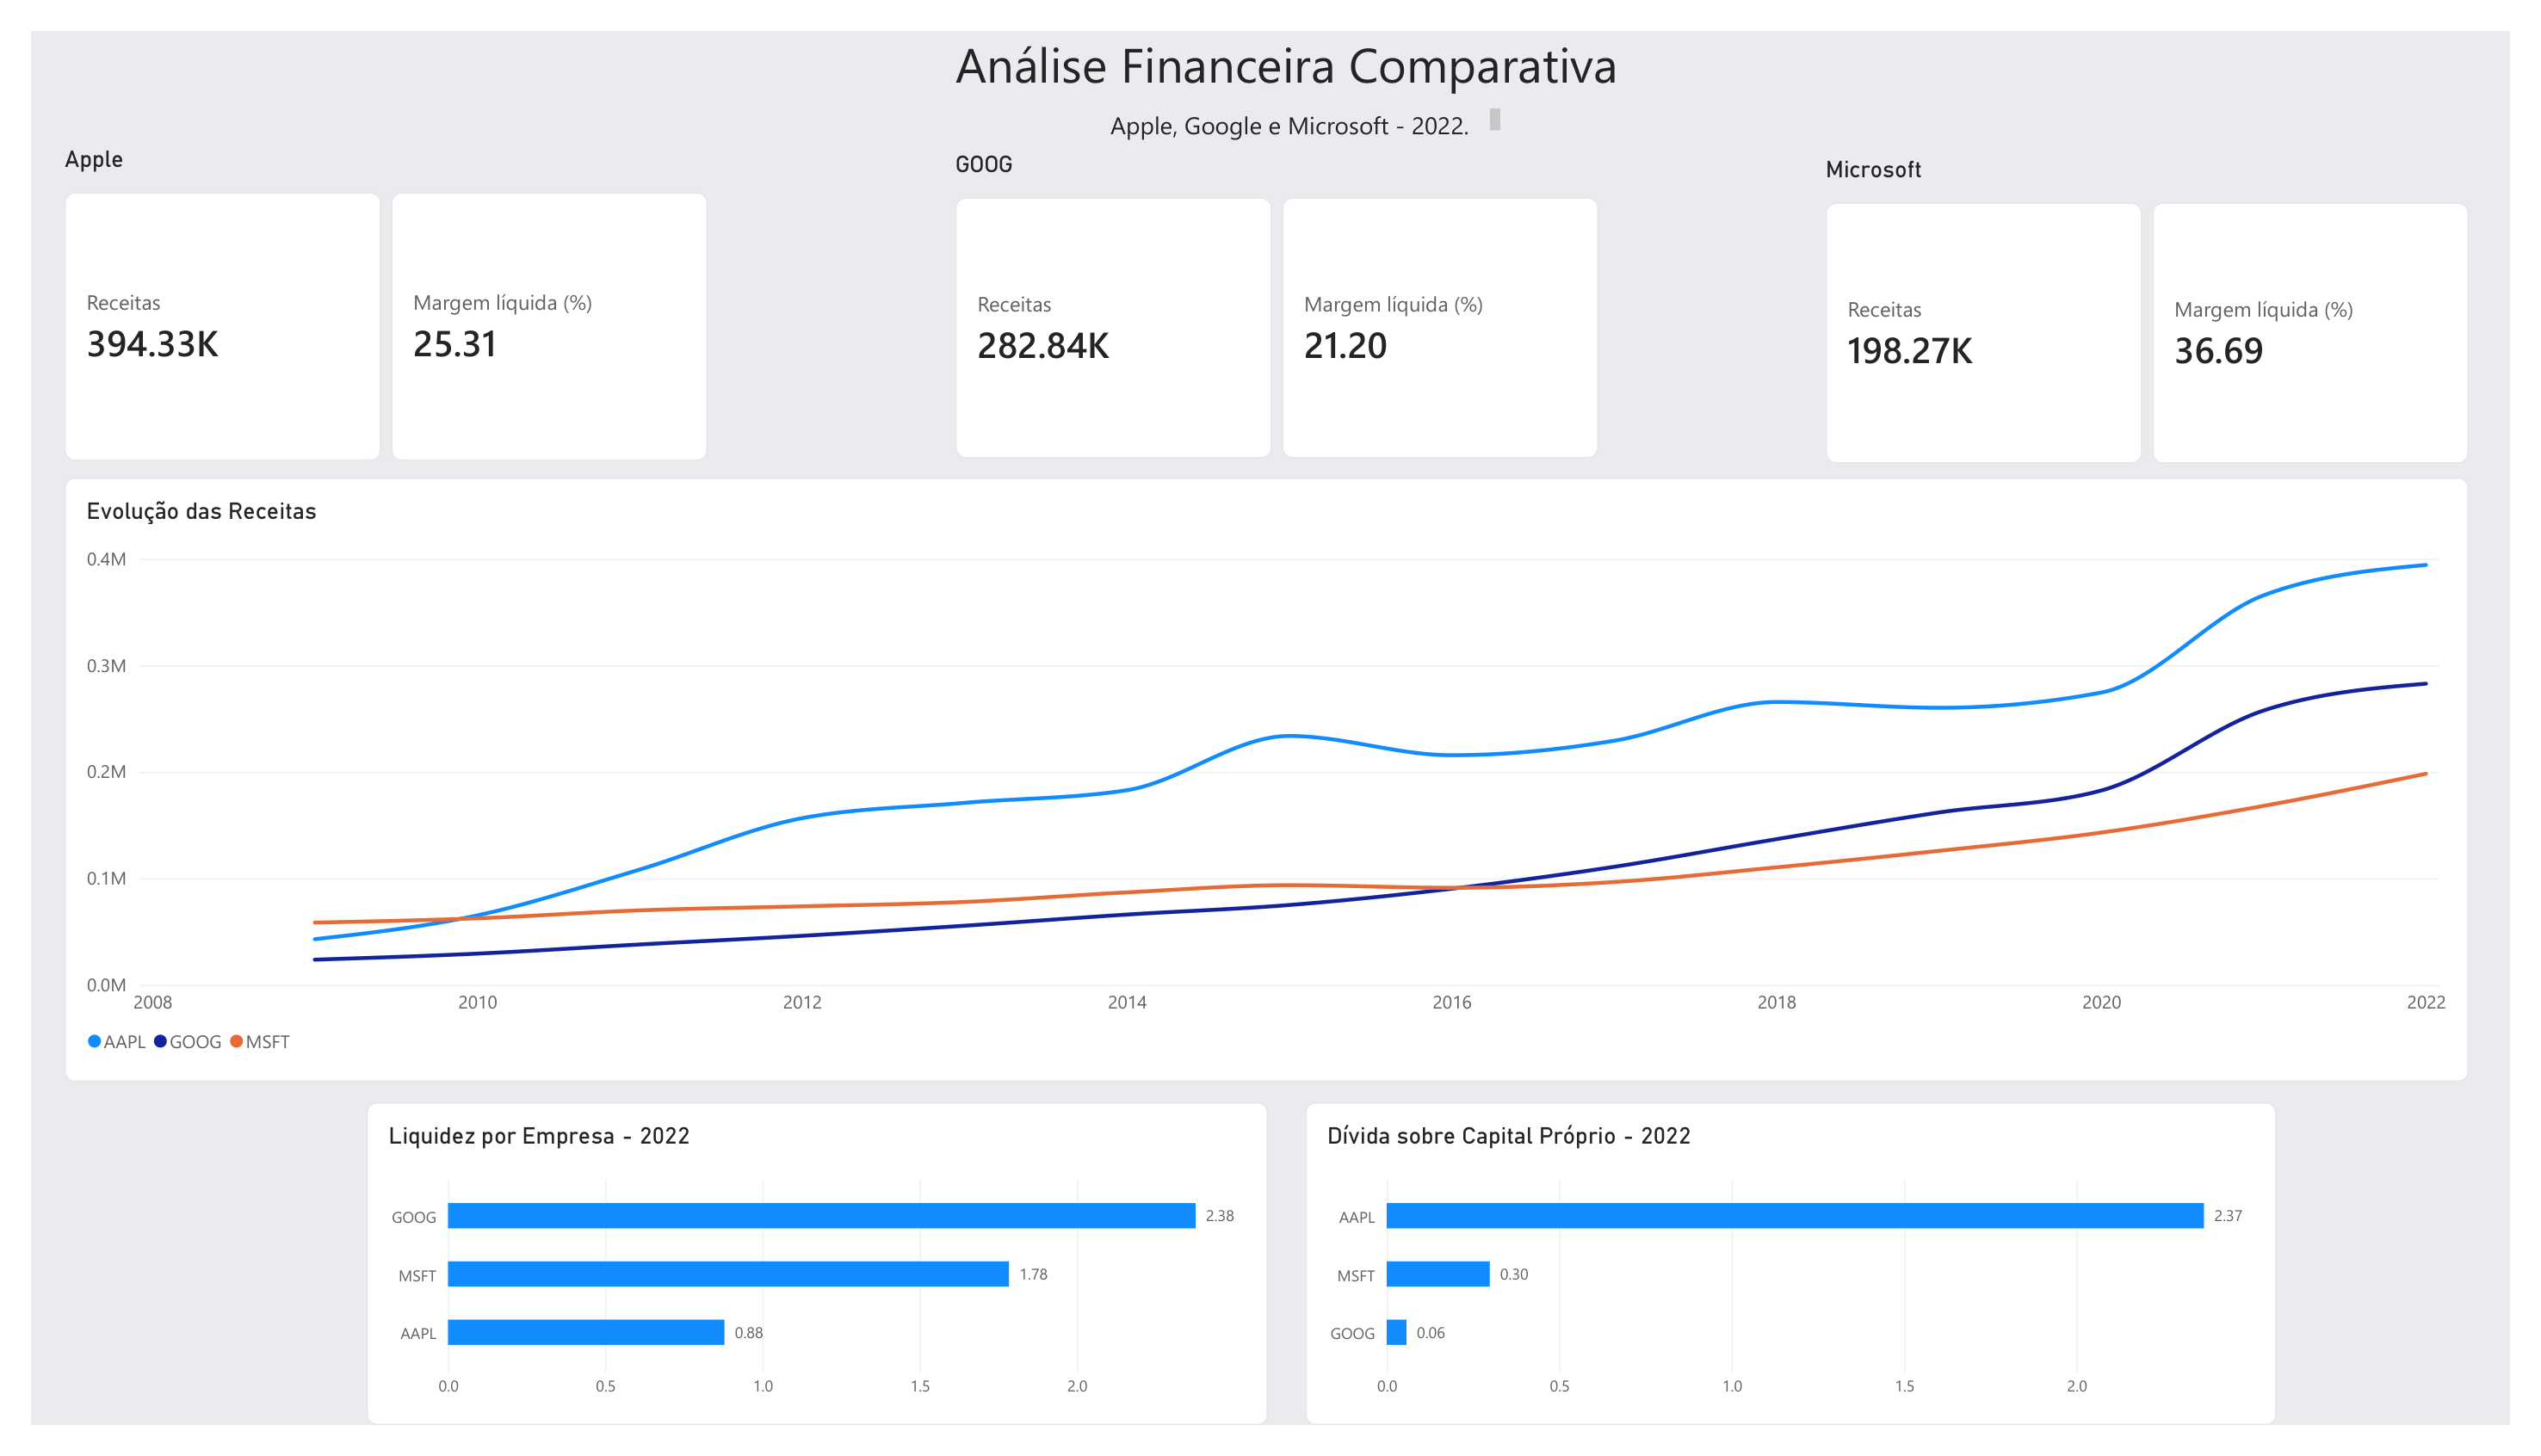

The dashboard page shown, as its layout file describes it:
{"tool":"powerbi","page":{"name":"Dashboard","canvas":[1920,1080],"ordinal":0},"visuals":[{"type":"lineChart","title":"Evolução das Receitas","fields":{"Category":["Dados.Year"],"Series":["Dados.Company"],"Y":["Sum(Dados.Revenue)"]},"box":[26,346,1862,468],"z":0},{"type":"clusteredBarChart","title":"Liquidez por Empresa - 2022","fields":{"Category":["Dados.Company"],"Y":["Avg(Dados.Current Ratio)"]},"box":[260,830,698,250],"z":1000},{"type":"clusteredBarChart","title":"Dívida sobre Capital Próprio - 2022","fields":{"Category":["Dados.Company"],"Y":["Avg(Dados.Debt/Equity Ratio)"]},"box":[987.1,830,752,250],"z":2000},{"type":"textbox","box":[716,0,542,74],"z":3000},{"type":"textbox","box":[836,60,302,28],"z":3001},{"type":"cardVisual","title":"Apple","fields":{"Data":["Sum(Dados.Revenue)","Avg(Dados.Net Profit Margin)"]},"box":[26,88,498,246],"z":3002},{"type":"cardVisual","title":"GOOG","fields":{"Data":["Sum(Dados.Revenue)","Avg(Dados.Net Profit Margin)"]},"box":[716,92,498,240],"z":3003},{"type":"cardVisual","title":"Microsoft","fields":{"Data":["Sum(Dados.Revenue)","Avg(Dados.Net Profit Margin)"]},"box":[1390,96,498,240],"z":3004}]}

Visuals, with their boxes in screenshot pixels (x1, y1, x2, y2), scaled from the page's 1920x1080 canvas onto the 2541x1456 screenshot:
"Evolução das Receitas" lineChart: 34/466/2499/1097
"Liquidez por Empresa - 2022" clusteredBarChart: 344/1119/1268/1455
"Dívida sobre Capital Próprio - 2022" clusteredBarChart: 1307/1119/2302/1455
textbox: 948/0/1665/100
textbox: 1106/81/1506/119
"Apple" cardVisual: 34/119/694/450
"GOOG" cardVisual: 948/124/1607/447
"Microsoft" cardVisual: 1839/129/2499/453
